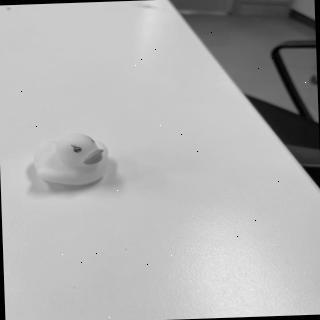duck_regular: (33, 132, 113, 189)
